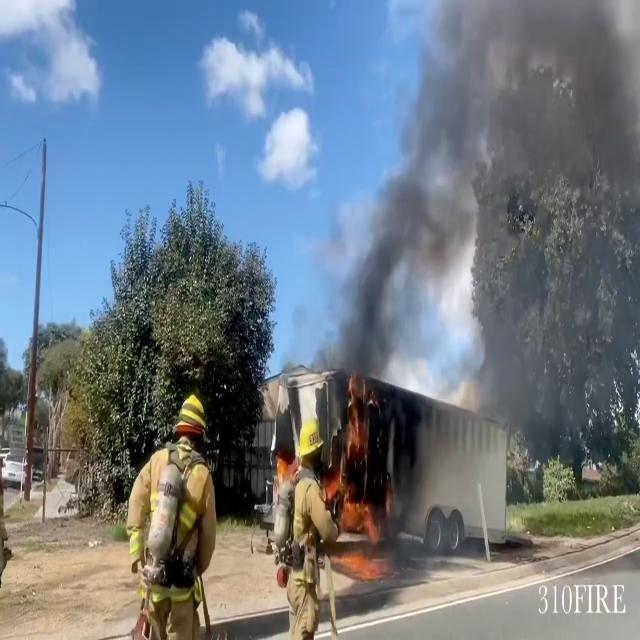Smoke: (335, 0, 640, 382), (328, 160, 448, 381)
